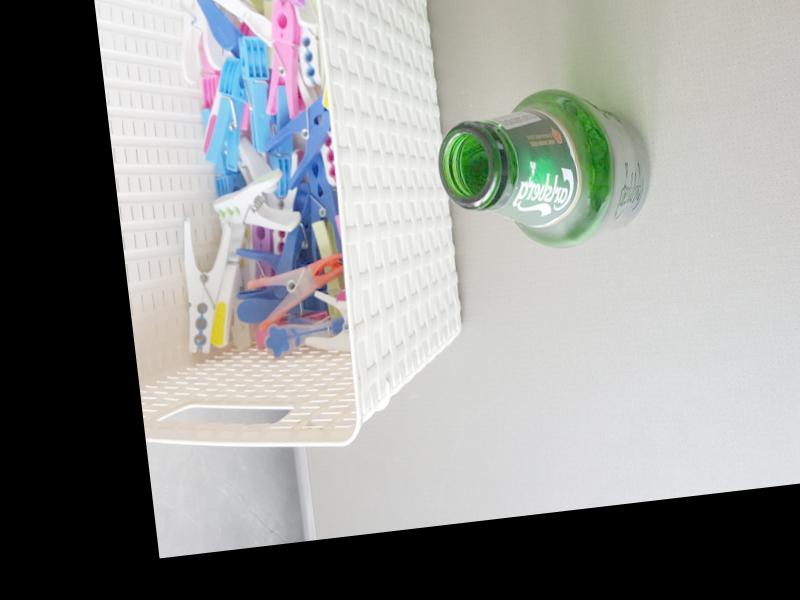Beer: (432, 79, 660, 262)
